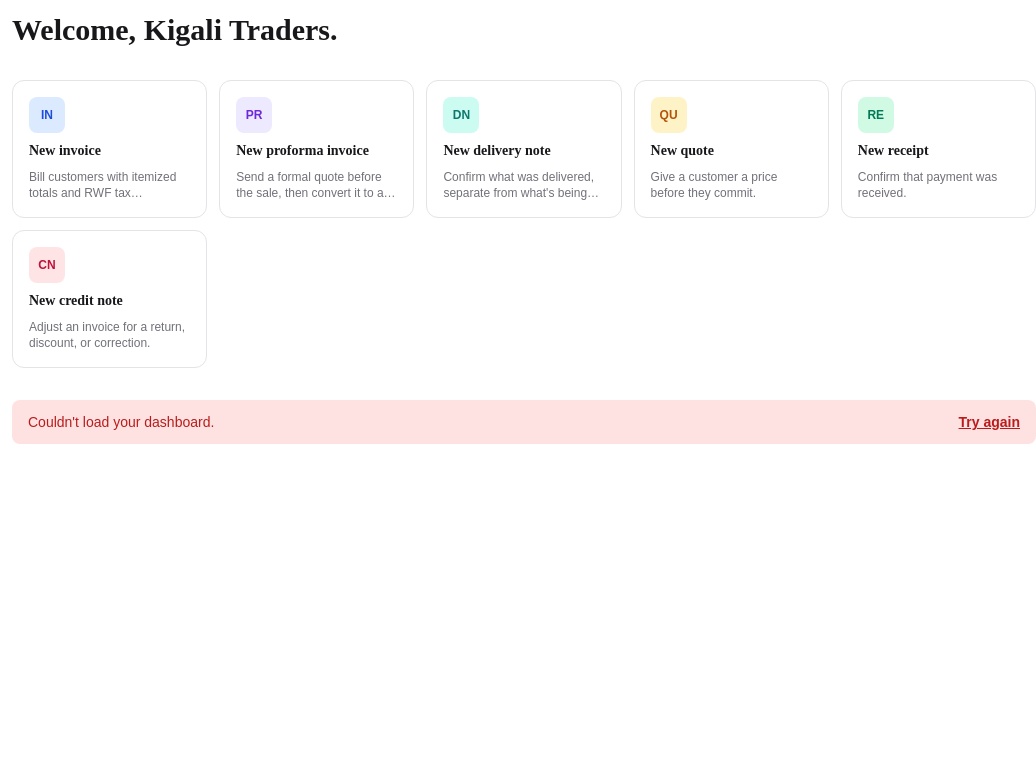
it: Dashboard › retries loading the dashboard after a failure and shows it once it succeeds
The width and height of the screenshot is (1036, 780).
Expected: the message shows "Couldn't load your dashboard.", left=28, top=414, right=214, bottom=430
Click the button "Try again".
click(989, 422)  # box left=958, top=412, right=1020, bottom=432
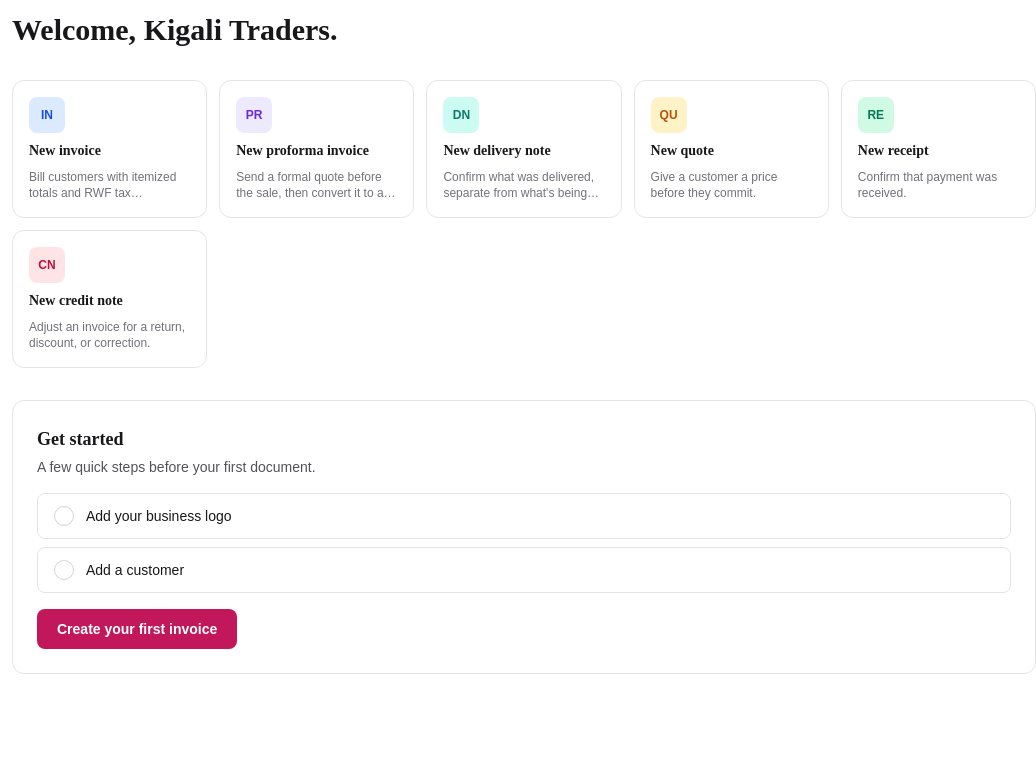
Expected: the text "Welcome, Kigali Traders." is shown, left=12, top=13, right=338, bottom=46
Now the message "Couldn't load your dashboard. Try again" is gone
